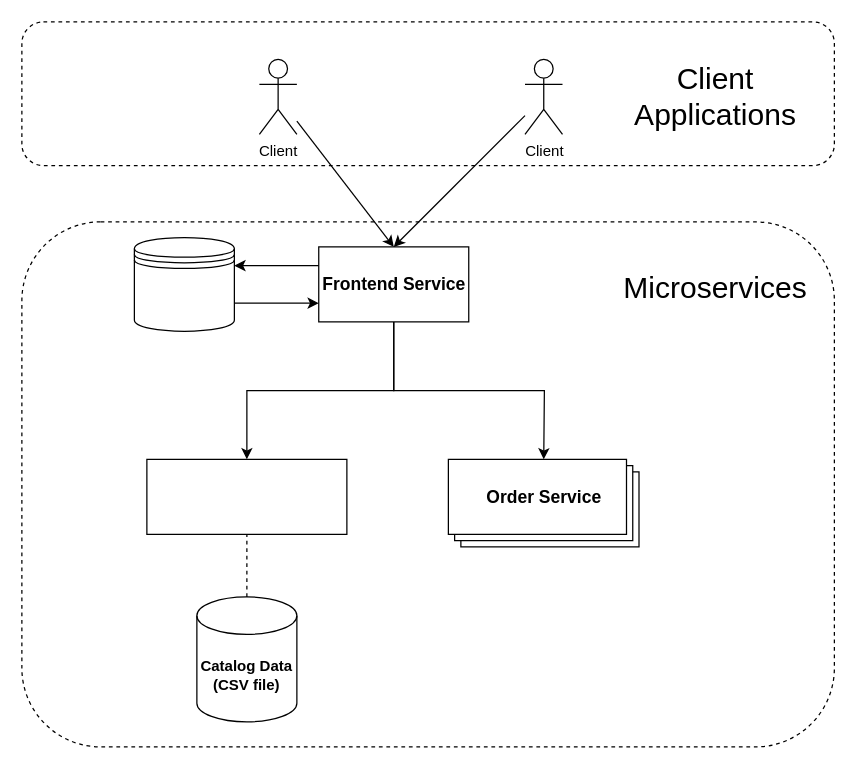
Image size: 856x769. Some labels were removed from this diagram. Each missing label, with the centre of its shape:
"Cache" goes at pixel 183 283.
"Catalog Service" goes at pixel 246 496.
